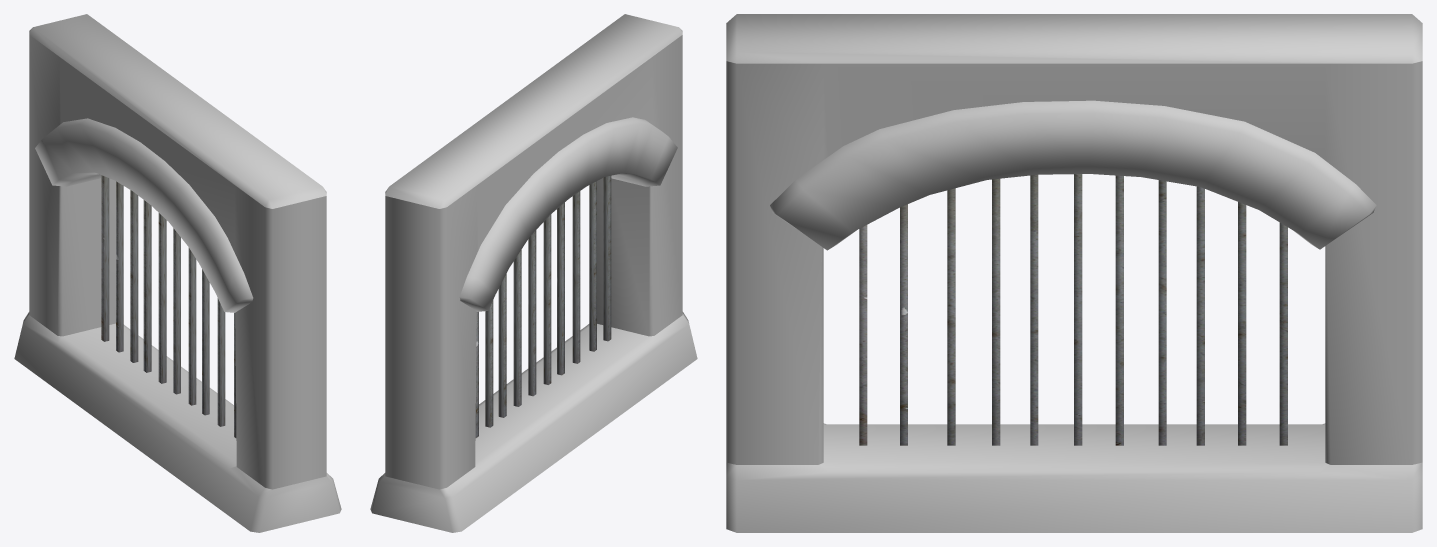
File: Wall_Opening.FBX
The picture shows the model from 3 angles, left to right: view 1: azimuth 30°, elevation 25°; view 2: azimuth 150°, elevation 25°; view 3: azimuth 270°, elevation 25°; orthographic projection. The views are drawn at different scales.
Visible parts, largest first — view 1: Wall_Opening, Bars; view 2: Wall_Opening, Bars; view 3: Wall_Opening, Bars.
Boxes of the visible parts, left/top/right/bottom form: Wall_Opening: left=14, top=14, right=341, bottom=532; Bars: left=101, top=175, right=236, bottom=437; Wall_Opening: left=370, top=14, right=697, bottom=532; Bars: left=475, top=176, right=611, bottom=437; Wall_Opening: left=726, top=14, right=1422, bottom=532; Bars: left=859, top=174, right=1287, bottom=445.
Bounding box in the file's own units: 89.47 × 306 × 413.
